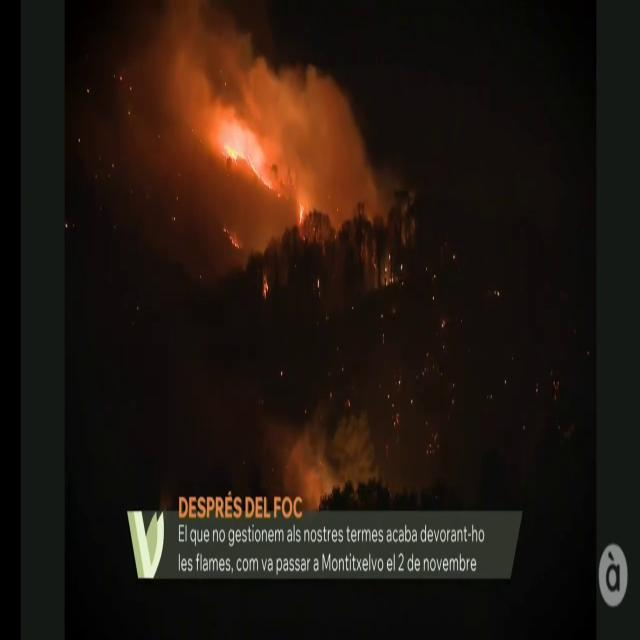Smoke: (144, 2, 382, 235)
